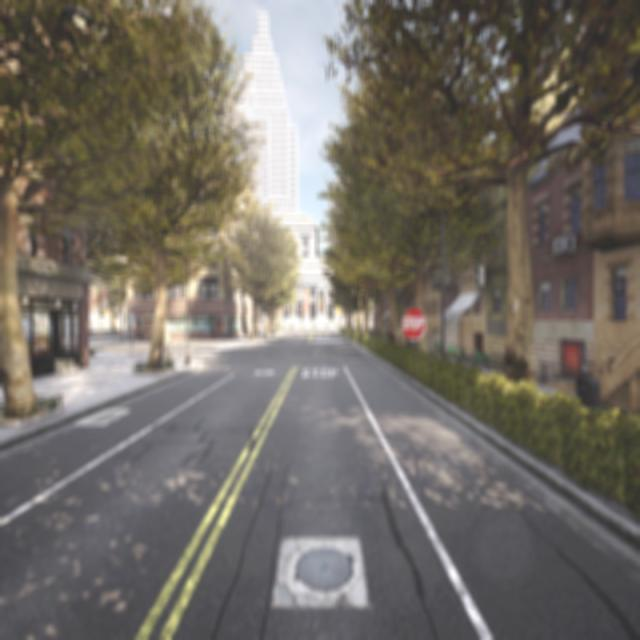stop sign: (398, 302, 429, 343), (402, 314, 424, 332)
